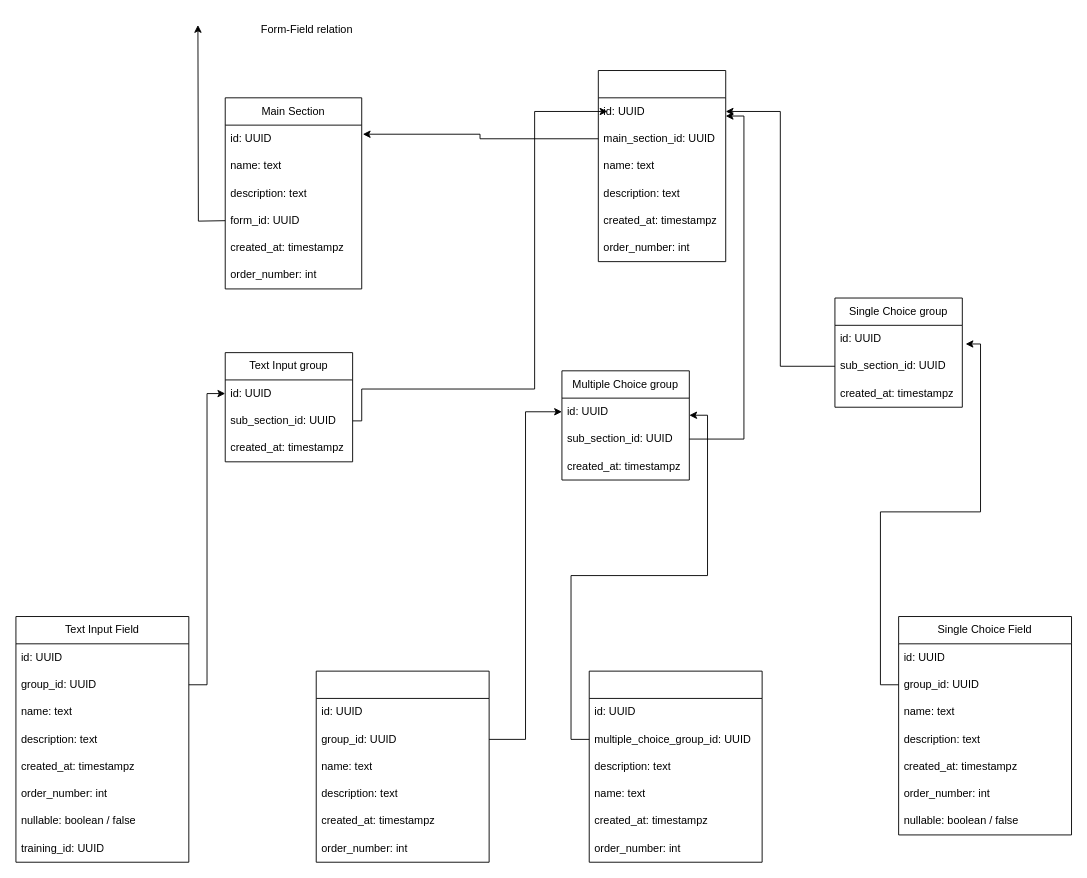
This 1087x878 diagram has some shape labels left out. Here are the shapes that lost their labels. From the top down, the box of each, then its label:
(597, 70, 726, 262): Sub Section
(315, 670, 489, 862): Multiple C hoice Field
(588, 670, 762, 862): Tasks
